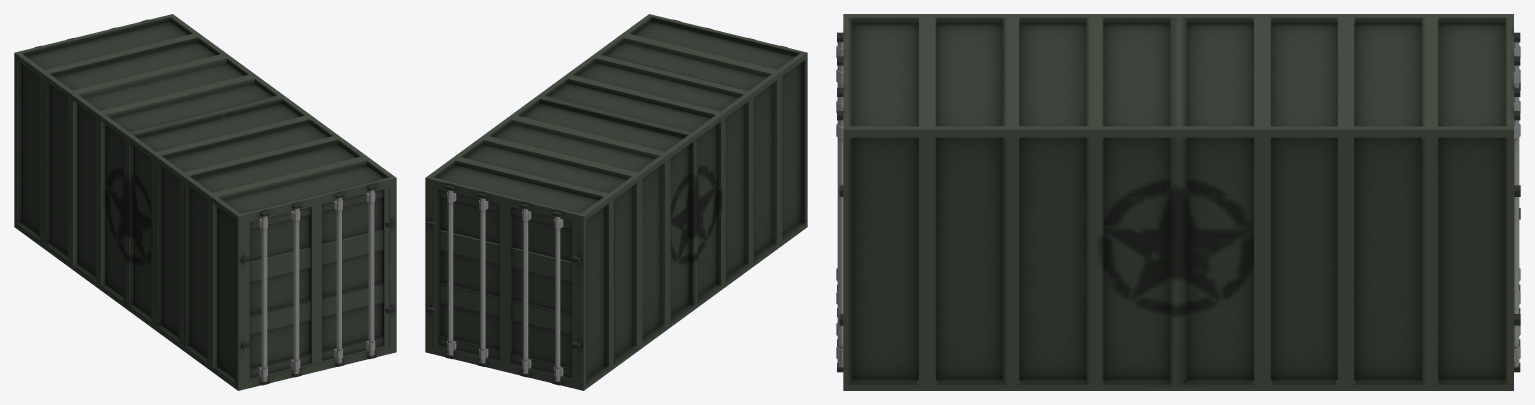
The model's file is Container_Green.fbx.
The picture shows the model from 3 angles, left to right: view 1: azimuth 30°, elevation 25°; view 2: azimuth 150°, elevation 25°; view 3: azimuth 270°, elevation 25°; orthographic projection. The views are drawn at different scales.
Visible parts, largest first — view 1: Container_Body_Green, Container_Door_Green_1, Container_Door_Green_2, Container_Pole_1 (×2), Container_Pole_2 (×2); view 2: Container_Body_Green, Container_Door_Green_4, Container_Door_Green_3, Container_Pole_2 (×2), Container_Pole_1 (×2); view 3: Container_Body_Green, Container_Pole_1 (×2).
Part boxes in pixels (x1=…): Container_Body_Green: x1=14, y1=14, x2=396, y2=390; Container_Door_Green_1: x1=317, y1=187, x2=389, y2=363; Container_Door_Green_2: x1=244, y1=204, x2=316, y2=381; Container_Pole_1 (×2): x1=258, y1=190, x2=375, y2=381; Container_Pole_2 (×2): x1=290, y1=198, x2=342, y2=373; Container_Body_Green: x1=425, y1=14, x2=807, y2=390; Container_Door_Green_4: x1=432, y1=187, x2=505, y2=363; Container_Door_Green_3: x1=505, y1=204, x2=577, y2=381; Container_Pole_2 (×2): x1=479, y1=198, x2=531, y2=373; Container_Pole_1 (×2): x1=447, y1=190, x2=563, y2=381; Container_Body_Green: x1=837, y1=14, x2=1520, y2=390; Container_Pole_1 (×2): x1=836, y1=120, x2=1520, y2=367.
Bounding box in the file's own units: 4.44 × 4.67 × 11.09.
